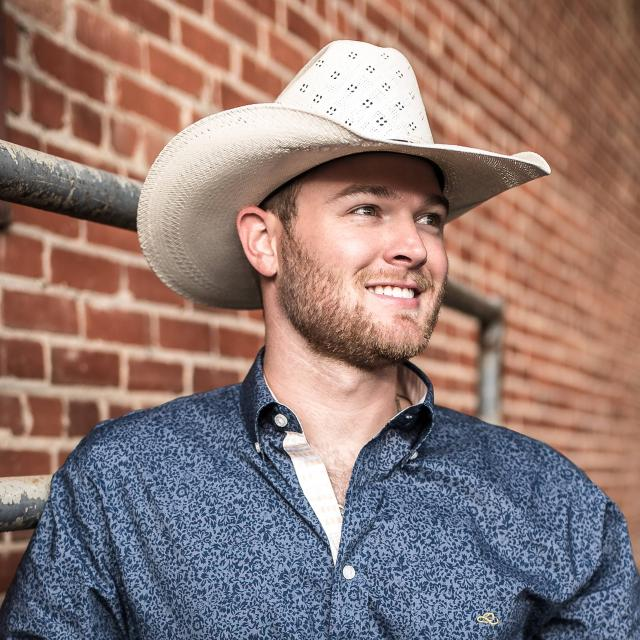hat: (128, 34, 559, 324)
